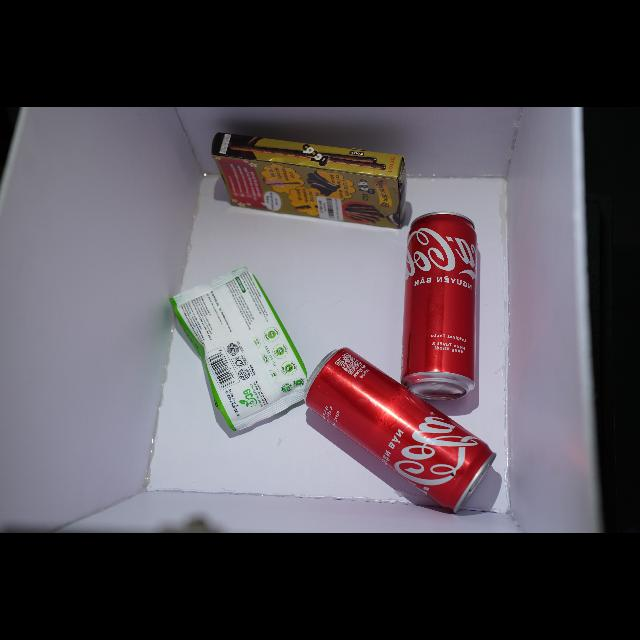banh_toppo_socola: (211, 133, 406, 228)
coca_cola: (305, 348, 495, 512), (401, 212, 479, 400)
khan_giay: (171, 268, 307, 431)
